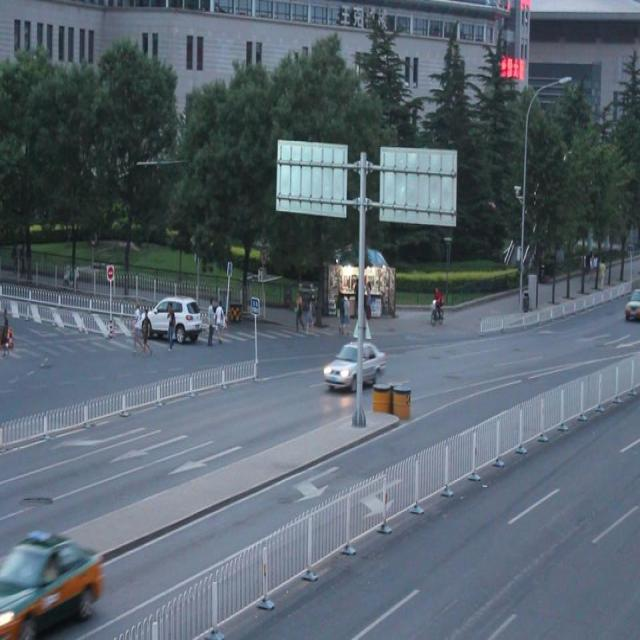car: (1, 523, 102, 627), (322, 338, 383, 389), (140, 294, 202, 341), (620, 281, 640, 321)
